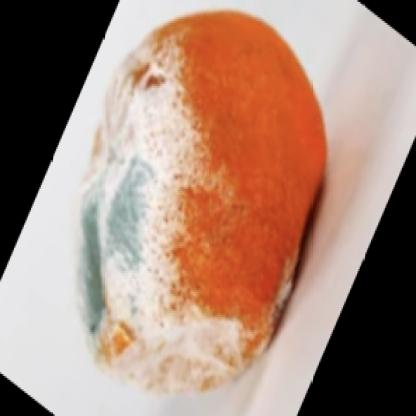rotten: (77, 13, 326, 393)
